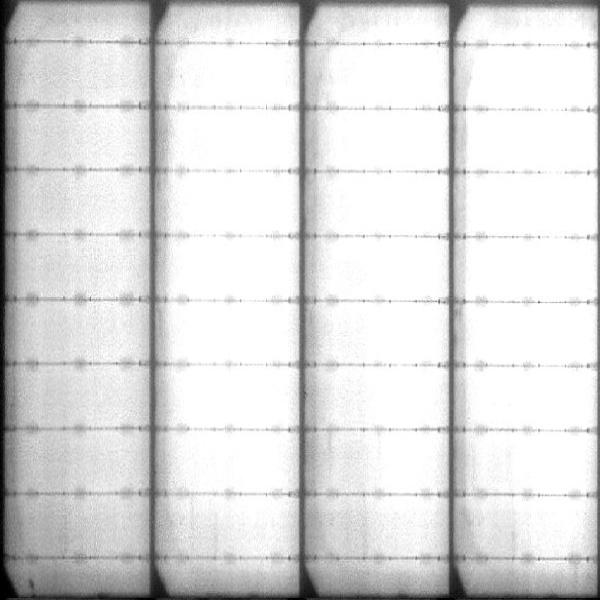hot_spot: (330, 49, 441, 104), (182, 112, 294, 166), (477, 178, 592, 230), (476, 309, 588, 361), (475, 374, 591, 423), (479, 55, 594, 103), (476, 117, 591, 165), (341, 175, 440, 230), (478, 247, 589, 296), (189, 242, 290, 295), (187, 179, 294, 229), (492, 437, 591, 489), (188, 373, 293, 422), (344, 244, 440, 297), (185, 310, 286, 359), (337, 119, 440, 167), (349, 311, 444, 360), (192, 440, 289, 486), (361, 371, 437, 425), (194, 55, 287, 99), (382, 441, 435, 489), (225, 506, 281, 550), (538, 504, 571, 545)
